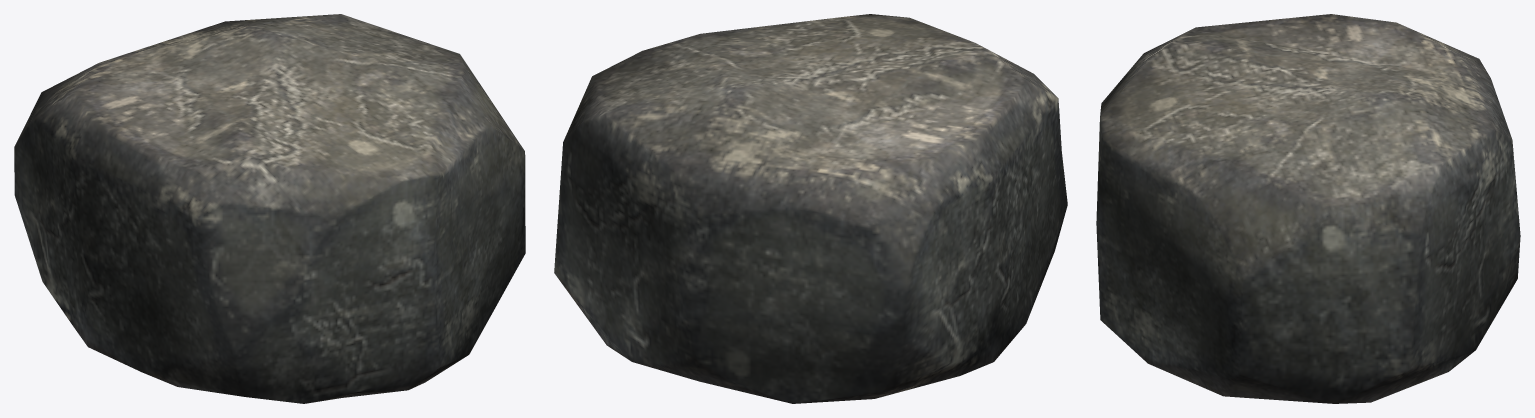
The model's file is Object_Rock5.obj.
The picture shows the model from 3 angles, left to right: view 1: azimuth 30°, elevation 25°; view 2: azimuth 150°, elevation 25°; view 3: azimuth 270°, elevation 25°; orthographic projection. The views are drawn at different scales.
Parts seen in each view (by area): view 1: smallrock5; view 2: smallrock5; view 3: smallrock5.
Part boxes in pixels (box(x1,y1,x2,y2)): smallrock5: box(14, 14, 525, 403); smallrock5: box(554, 14, 1067, 403); smallrock5: box(1096, 14, 1520, 403).
Size of the model in its own units: 9.4 by 5.7 by 9.03.
1 material, 1 textured.
